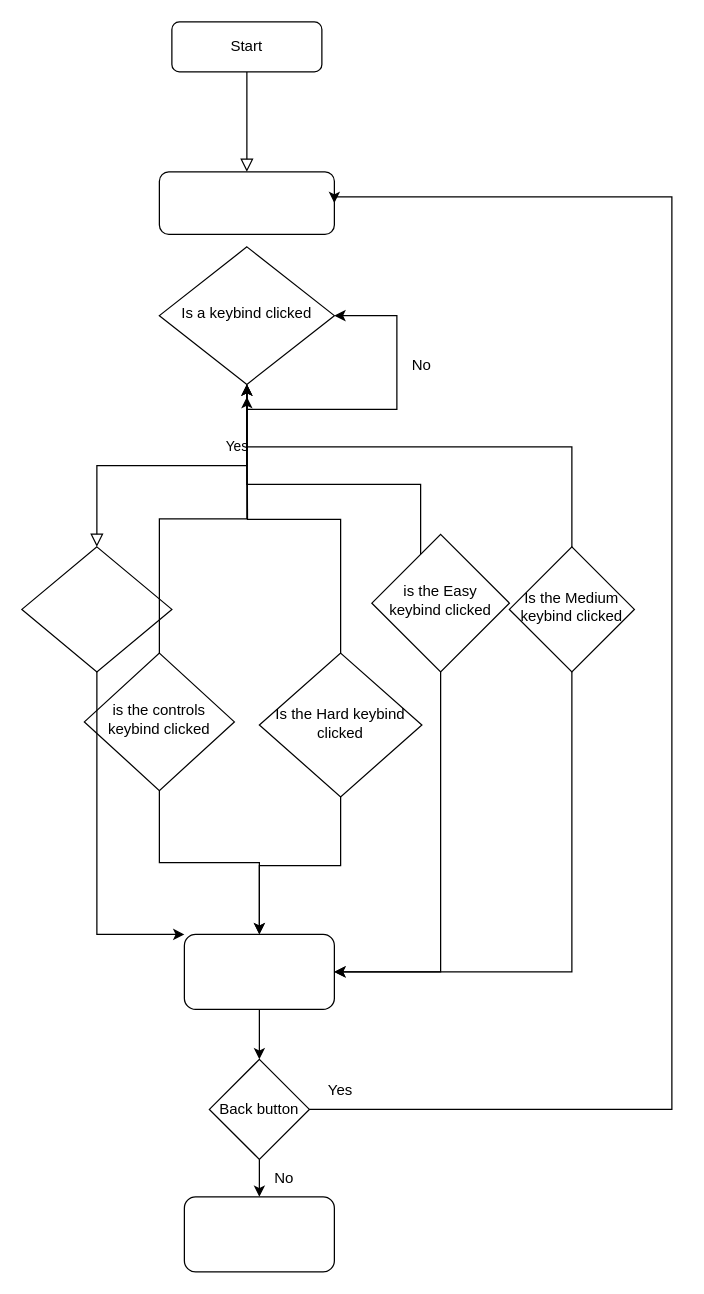
Image size: 704x1294. Some labels were removed from this diagram. Here are the shapes that lost their labels. From the top down, the box of each, then its label:
(158, 171, 334, 234): Display menu options as keybind options
(21, 546, 172, 672): is the start game keybind clicked
(183, 933, 334, 1009): Lead to appropriate screen
(183, 1196, 334, 1272): End
